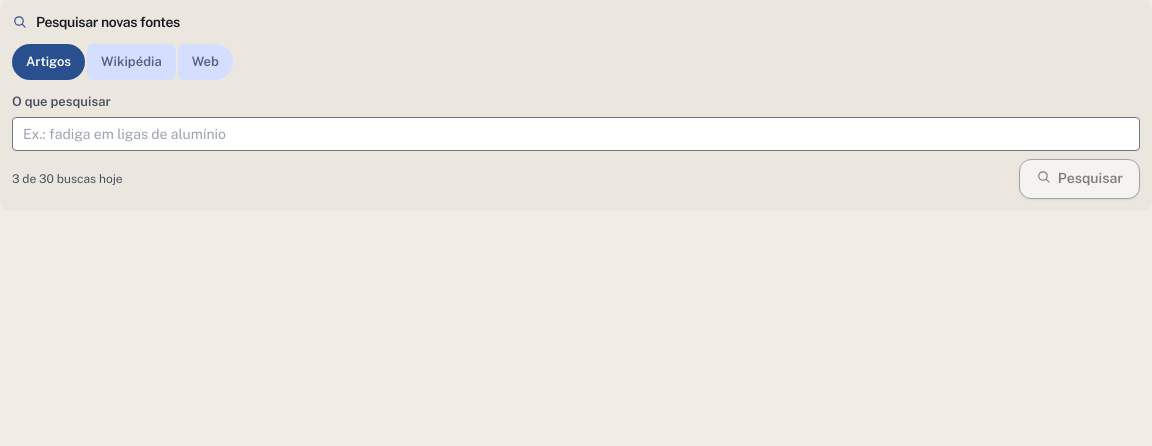
Test: SourceSearch — searching › searches the chosen provider and lists what it found
The image size is (1152, 446).
Type "fadiga" into the search field labelled "O que pesquisar" at [576, 134], box [12, 116, 1140, 150]
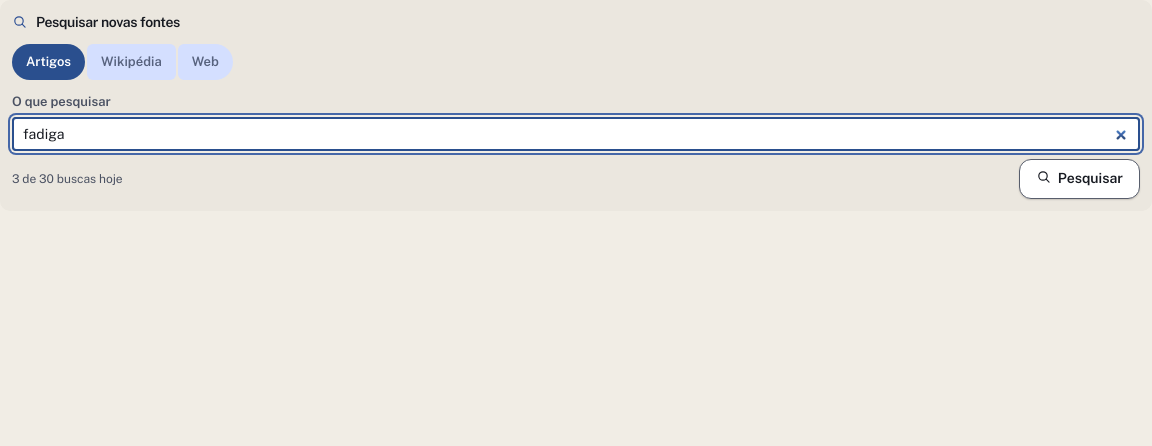
Click the button "Pesquisar" at [1079, 178], box [1019, 158, 1140, 198]
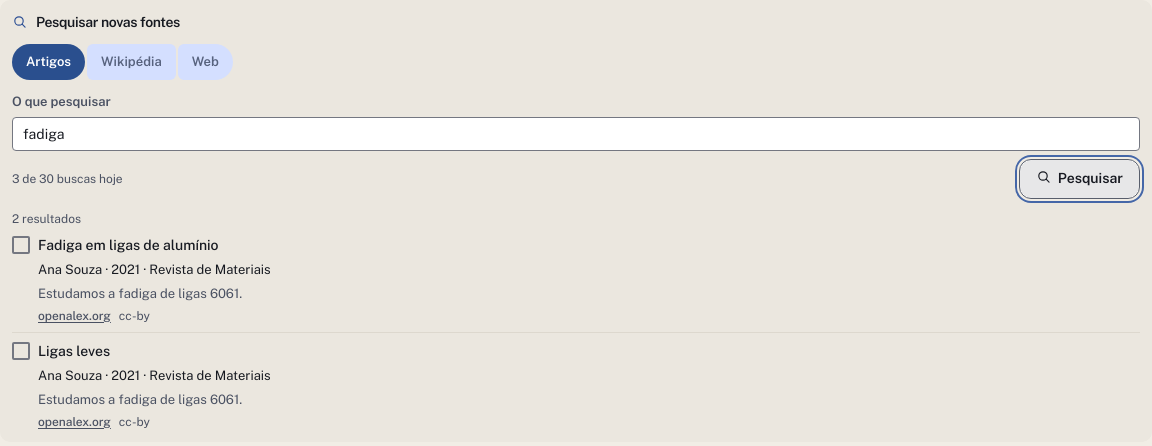
Check: the number of list items is 2, box [12, 236, 398, 322]; [12, 332, 1140, 430]
Check: the text "Ana Souza · 2021 · Revista de Materiais" is shown 2 times, box [38, 262, 271, 276]; [38, 368, 271, 382]
Check: the text "Estudamos a fadiga de ligas 6061." is shown 2 times, box [38, 286, 242, 300]; [38, 392, 242, 406]
